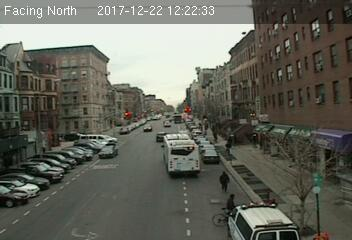bus: (162, 133, 200, 173)
car: (98, 142, 117, 158), (202, 149, 220, 162)
pedestrian: (219, 169, 231, 192)
police: (229, 200, 296, 240)
ups: (174, 114, 183, 125)
